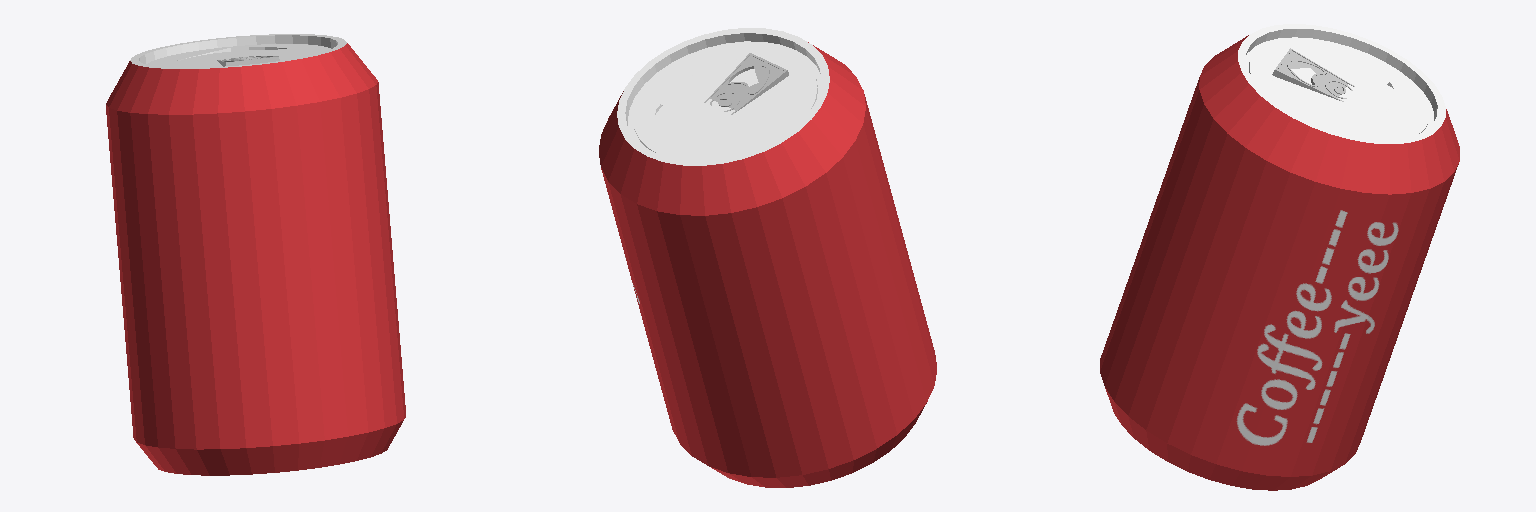
The picture shows the model from 3 angles: view 1: azimuth 30°, elevation 25°; view 2: azimuth 150°, elevation 25°; view 3: azimuth 270°, elevation 25°; orthographic projection.
Parts seen in each view (by area): view 1: Cylinder; view 2: Cylinder, Cube_Cube.001; view 3: Cylinder, Cube_Cube.001.
Part boxes in pixels (bbox=[...]): Cylinder: bbox=[106, 34, 405, 475]; Cylinder: bbox=[599, 28, 936, 487]; Cube_Cube.001: bbox=[704, 53, 788, 114]; Cylinder: bbox=[1100, 24, 1459, 490]; Cube_Cube.001: bbox=[1272, 48, 1354, 101].
Bounding box in the file's own units: 2.17 × 3.36 × 2.63.
2 materials, 1 textured.